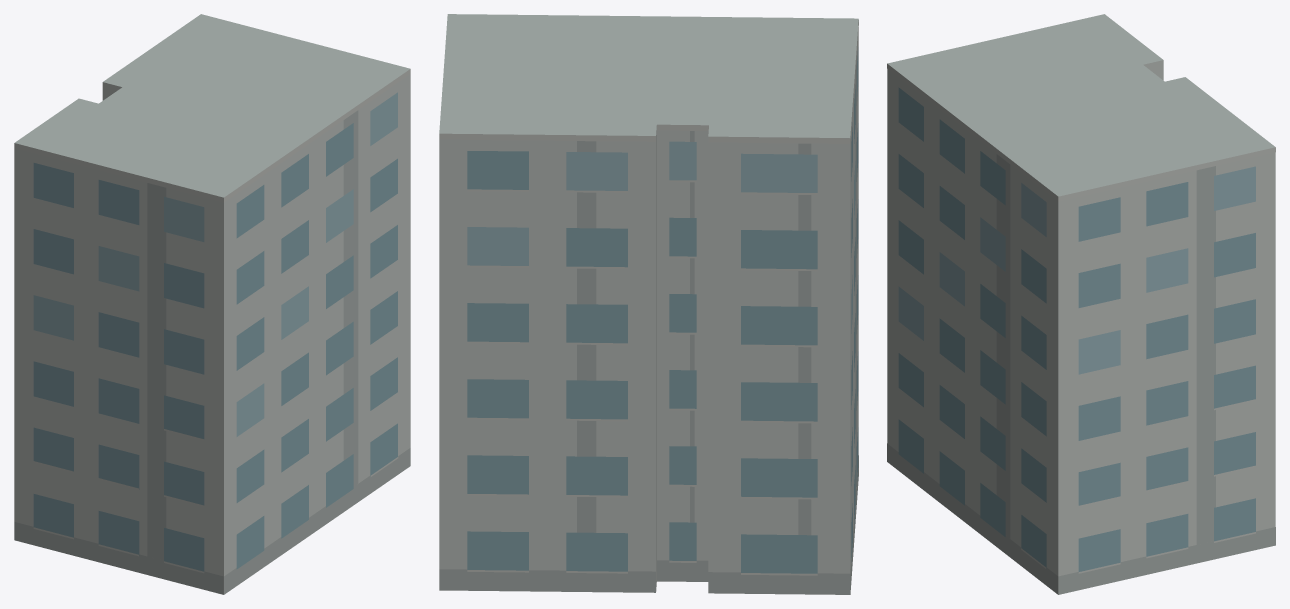
File: survey-upis-32766133.glb
The picture shows the model from 3 angles, left to right: view 1: azimuth 30°, elevation 25°; view 2: azimuth 150°, elevation 25°; view 3: azimuth 270°, elevation 25°; orthographic projection. The views are drawn at different scales.
Parts seen in each view (by area): view 1: survey-upis-32766133.tmp; view 2: survey-upis-32766133.tmp; view 3: survey-upis-32766133.tmp.
Boxes of the visible parts, x1,y1,x2,y2 form: survey-upis-32766133.tmp: (14,14,410,594); survey-upis-32766133.tmp: (439,14,858,594); survey-upis-32766133.tmp: (887,14,1275,594).
Size of the model in its own units: 18.5 by 18.8 by 16.64.
